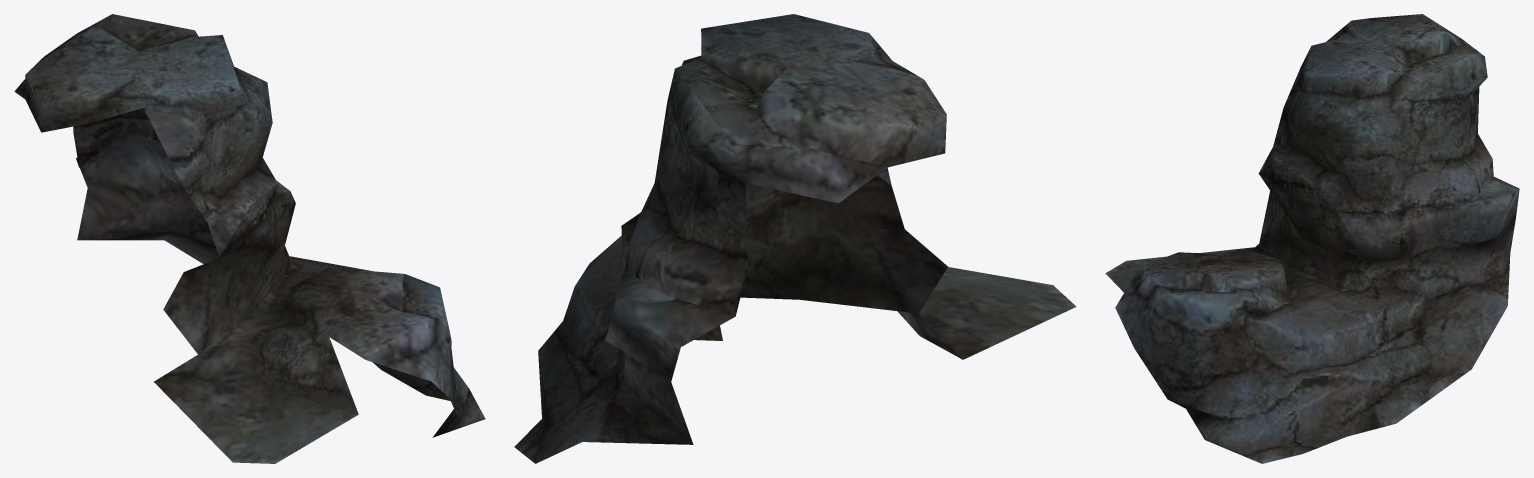
Rendered from S_Rock_Yellow034_H28.FBX.
3 renders of one model, left to right at view 1: azimuth 30°, elevation 25°; view 2: azimuth 150°, elevation 25°; view 3: azimuth 270°, elevation 25°, orthographic. The views are drawn at different scales.
Parts seen in each view (by area): view 1: S_Rock_Yellow034_H28; view 2: S_Rock_Yellow034_H28; view 3: S_Rock_Yellow034_H28.
Part boxes in pixels (x1,y1,x2,y2): S_Rock_Yellow034_H28: [14, 14, 485, 463]; S_Rock_Yellow034_H28: [514, 14, 1076, 463]; S_Rock_Yellow034_H28: [1105, 14, 1519, 463].
Bounding box in the file's own units: 1023 × 1166 × 982.
Materials: 1 (1 with a texture image).
